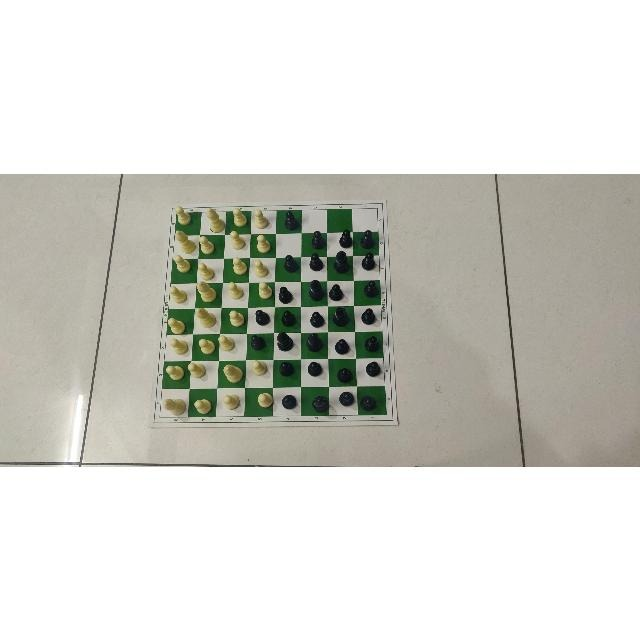black-bishop: (333, 249, 349, 273), (309, 279, 325, 301), (333, 305, 349, 326), (306, 332, 322, 352), (277, 331, 293, 351), (312, 394, 330, 411)
black-pawn: (310, 229, 325, 248), (339, 228, 353, 248), (360, 228, 374, 248), (308, 252, 323, 270), (363, 279, 378, 297), (250, 334, 266, 350), (361, 252, 375, 270), (254, 309, 269, 325), (281, 310, 296, 326), (309, 310, 324, 326), (360, 395, 376, 410), (329, 283, 343, 300), (278, 285, 292, 302), (361, 306, 375, 323), (284, 211, 297, 229), (284, 254, 297, 272), (337, 367, 352, 382), (339, 390, 354, 405), (281, 393, 296, 408), (279, 360, 294, 375), (364, 335, 378, 351), (366, 360, 380, 376), (335, 339, 349, 354), (308, 360, 322, 375)
white-bishop: (174, 229, 195, 252), (206, 206, 225, 231), (196, 280, 216, 302), (162, 397, 186, 415), (195, 307, 215, 327), (223, 363, 243, 382)
white-pawn: (174, 205, 192, 224), (169, 285, 187, 302), (167, 316, 185, 333), (199, 235, 215, 254), (198, 262, 214, 280), (174, 254, 190, 272), (170, 338, 188, 354), (187, 362, 205, 378), (232, 207, 247, 226), (229, 229, 244, 248), (253, 257, 268, 276), (254, 208, 268, 228), (218, 333, 234, 350), (198, 338, 215, 354), (232, 256, 247, 274), (166, 364, 184, 379), (194, 399, 212, 414), (257, 233, 271, 252), (223, 393, 239, 409), (227, 281, 242, 298), (229, 309, 244, 326), (258, 281, 272, 299), (251, 359, 266, 375), (258, 392, 273, 408)
